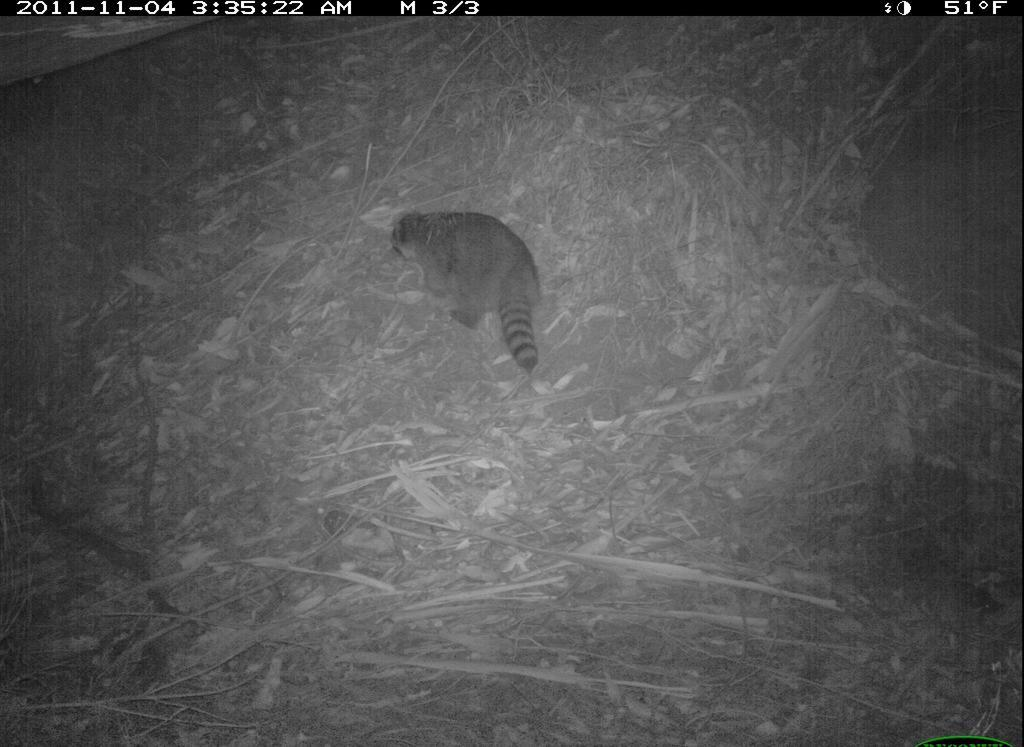raccoon: (376, 190, 571, 390)
